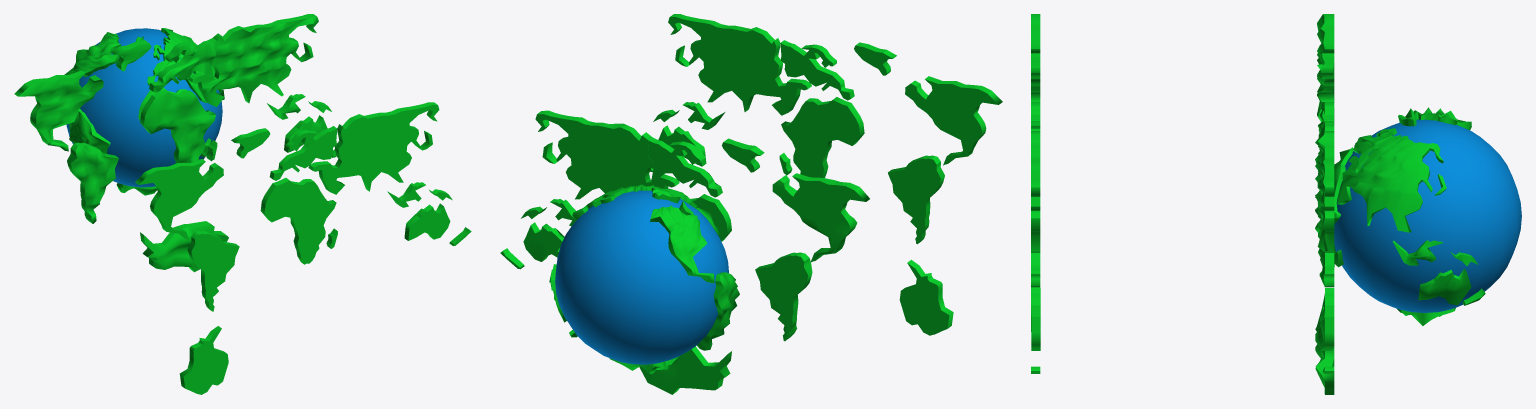
File: globus.fbx
The picture shows the model from 3 angles, left to right: view 1: azimuth 30°, elevation 25°; view 2: azimuth 150°, elevation 25°; view 3: azimuth 270°, elevation 25°; orthographic projection. The views are drawn at different scales.
Visible parts, largest first — view 1: pasted__asien (×2), wasser, pasted__afrika (×2), pasted__nordAmerika, nordAmerika_flach, pasted__südAmerika, südAmerika_flach, antarktis_flach, pasted__antarktis, pasted__europa, europa_flach, pasted__australien (×2) (+6 smaller); view 2: wasser, pasted__asien (×2), pasted__afrika (×2), pasted__nordAmerika, nordAmerika_flach, pasted__südAmerika, südAmerika_flach, antarktis_flach, pasted__antarktis, nordAmerika, pasted__europa, europa_flach (+6 smaller); view 3: wasser, eurasien, pasted__asien (×2), australien, pasted__nordAmerika, pasted__antarktis, nordAmerika_flach, nordAmerika, indonesien, afrika, pasted__australien, pasted__indonesien.
Part boxes in pixels (x1,y1,x2,y2): pasted__asien (×2): (188,14,439,194); wasser: (66,28,222,187); pasted__afrika (×2): (140,89,336,264); pasted__nordAmerika: (14,70,103,151); nordAmerika_flach: (135,159,223,239); pasted__südAmerika: (67,142,118,223); südAmerika_flach: (187,231,239,311); antarktis_flach: (179,326,228,394); pasted__antarktis: (140,221,228,272); pasted__europa: (149,38,216,92); europa_flach: (269,126,337,180); pasted__australien (×2): (284,115,450,240); wasser: (555,190,728,364); pasted__asien (×2): (535,14,811,199); pasted__afrika (×2): (685,97,864,241); pasted__nordAmerika: (772,173,869,262); nordAmerika_flach: (905,76,1002,165); pasted__südAmerika: (755,252,812,341); südAmerika_flach: (888,155,944,244); antarktis_flach: (899,259,953,335); pasted__antarktis: (639,346,731,394); nordAmerika: (650,201,714,283); pasted__europa: (648,137,722,197); europa_flach: (780,40,854,100); wasser: (1334,119,1521,312); eurasien: (1337,128,1443,232); pasted__asien (×2): (1031,125,1334,251); australien: (1418,268,1471,305); pasted__nordAmerika: (1317,14,1334,124); pasted__antarktis: (1315,308,1334,394); nordAmerika_flach: (1031,14,1040,128); nordAmerika: (1405,107,1471,130); indonesien: (1392,240,1442,265); afrika: (1334,147,1353,253); pasted__australien: (1319,308,1334,350); pasted__indonesien: (1319,253,1334,287).
Bounding box in the file's own units: 50.16 × 35.68 × 52.57.
